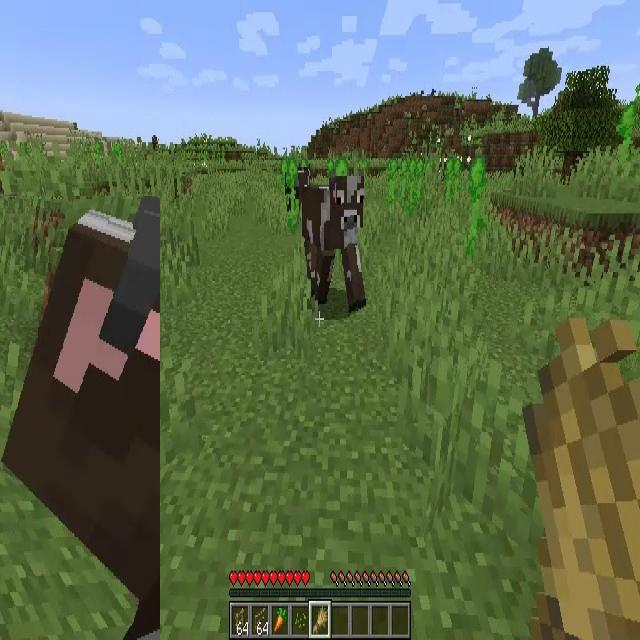cow: (0, 196, 160, 640), (299, 175, 366, 312), (284, 164, 308, 210)
